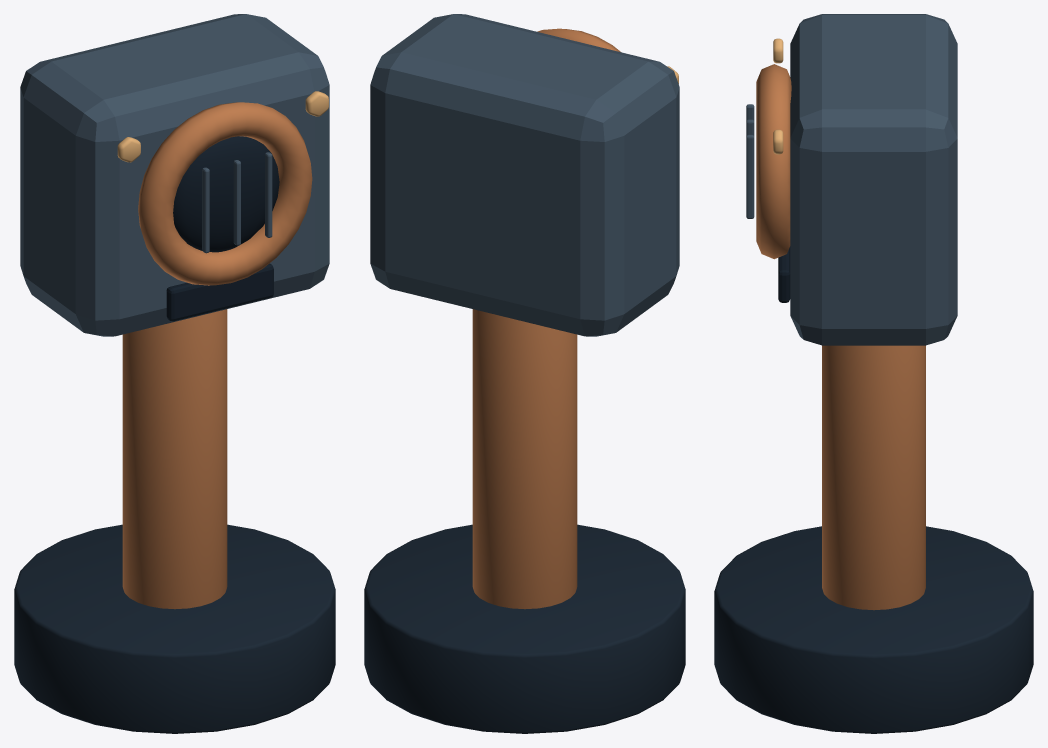
The picture shows the model from 3 angles, left to right: view 1: azimuth 30°, elevation 25°; view 2: azimuth 150°, elevation 25°; view 3: azimuth 270°, elevation 25°; orthographic projection.
Visible parts, largest first — view 1: PR006_body, PR006_base, PR006_column, PR006_bezel, PR006_unlit_lens, PR006_lower_slot, PR006_lens_grille, PR006_lens_grille.001, PR006_lens_grille.002; view 2: PR006_body, PR006_base, PR006_column, PR006_bezel; view 3: PR006_body, PR006_base, PR006_column, PR006_bezel, PR006_lens_grille.002, PR006_lower_slot.
Part boxes in pixels (<box>): PR006_body: <box>20,14,329,336</box>; PR006_base: <box>14,524,335,733</box>; PR006_column: <box>122,309,227,609</box>; PR006_bezel: <box>138,102,312,285</box>; PR006_unlit_lens: <box>173,136,279,252</box>; PR006_lower_slot: <box>166,263,273,321</box>; PR006_lens_grille: <box>202,167,209,253</box>; PR006_lens_grille.001: <box>233,160,240,245</box>; PR006_lens_grille.002: <box>265,152,272,237</box>; PR006_body: <box>370,14,679,336</box>; PR006_base: <box>364,524,685,733</box>; PR006_column: <box>472,309,577,609</box>; PR006_bezel: <box>537,28,620,51</box>; PR006_body: <box>790,14,957,345</box>; PR006_base: <box>714,526,1033,733</box>; PR006_column: <box>822,345,925,610</box>; PR006_bezel: <box>756,64,791,259</box>; PR006_lens_grille.002: <box>746,134,754,218</box>; PR006_lower_slot: <box>778,246,790,302</box>.
Size of the model in its own units: 0.8 by 1.68 by 0.8.
